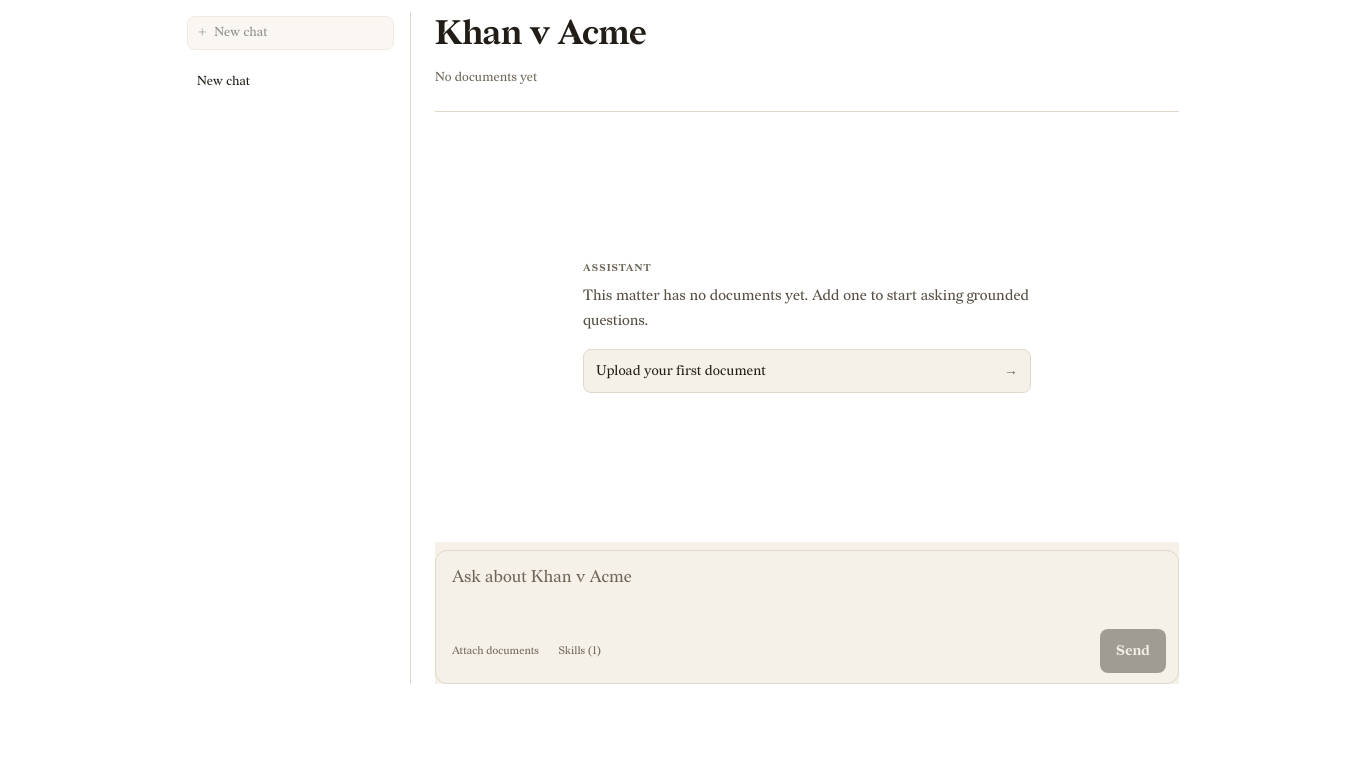
Scenario: AssistantTab — in-chat skill picker › mounts the generic runner for a runnable V2 skill instead of routing to a bespoke tab
The image size is (1366, 780).
Click the button with test id "chat-skills-toggle" at (580, 651), box [551,639,609,663]
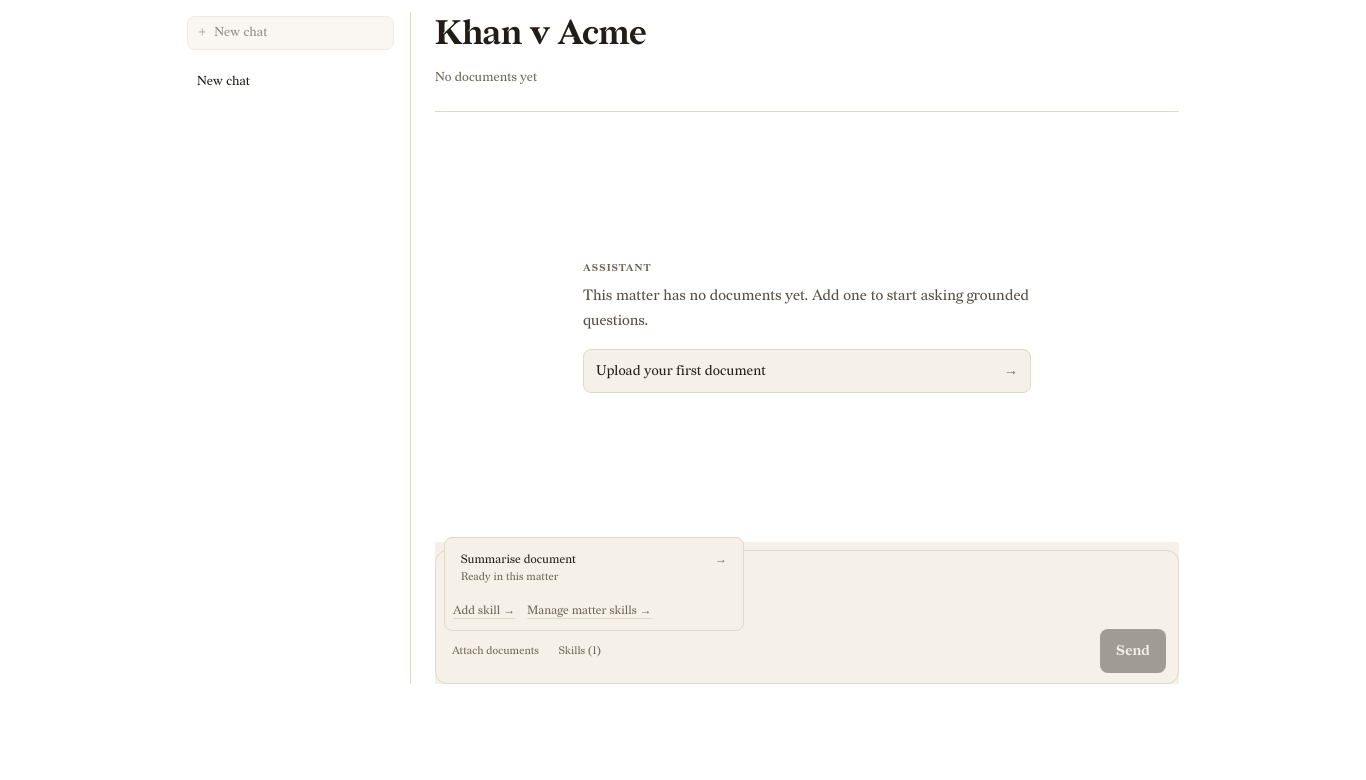
Click the menu item with test id "chat-runner-skill-demo.guided-skill-summarise" at (518, 560), box [453,546,735,591]
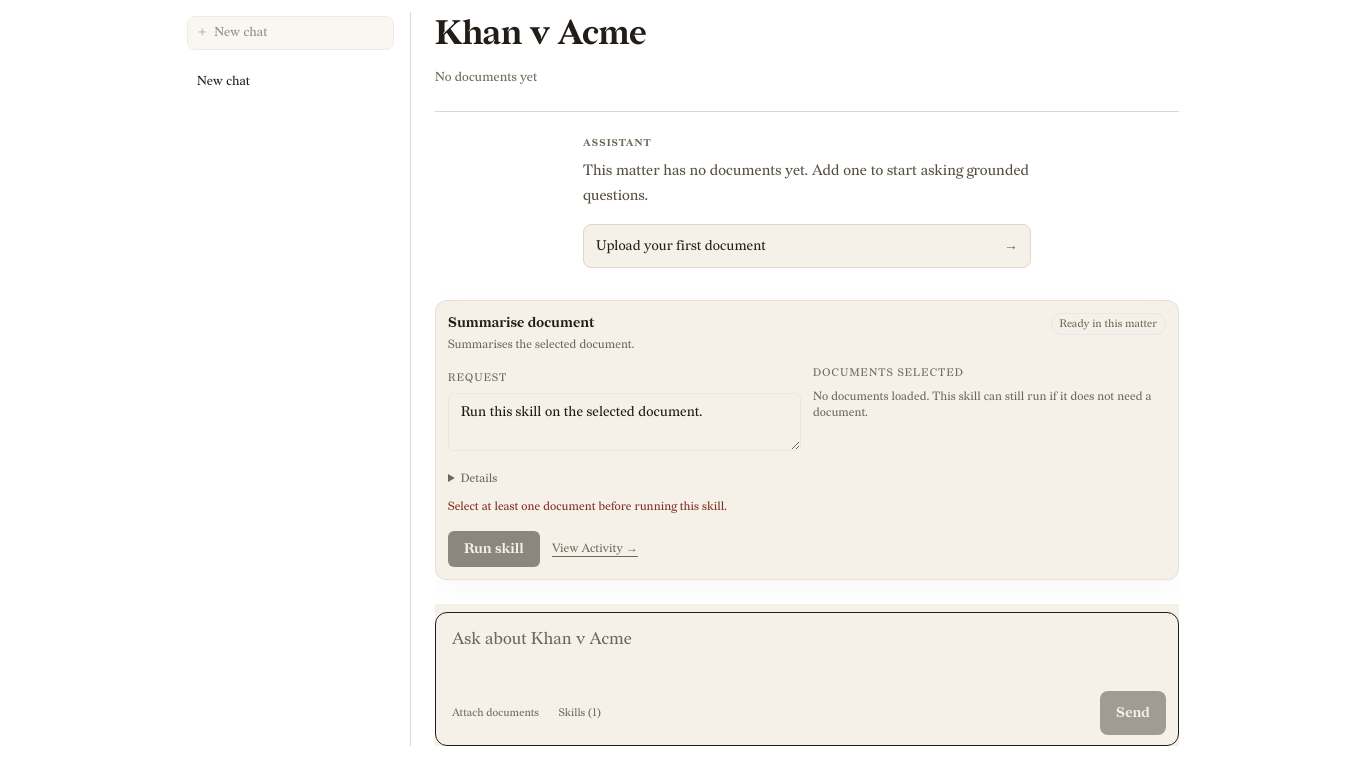
Check: the element with test id "generic-runner-demo.guided-skill-summarise" is shown, box [435,300,1179,580]
